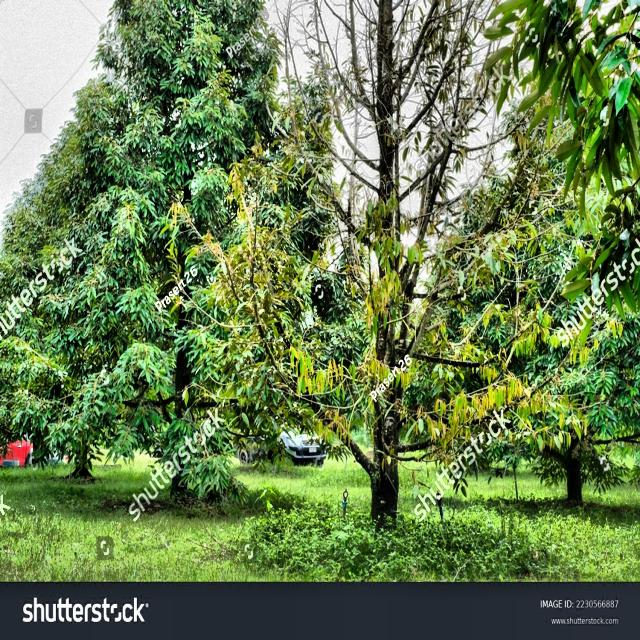arvore: (351, 0, 407, 517), (157, 199, 200, 528), (546, 369, 598, 525)
